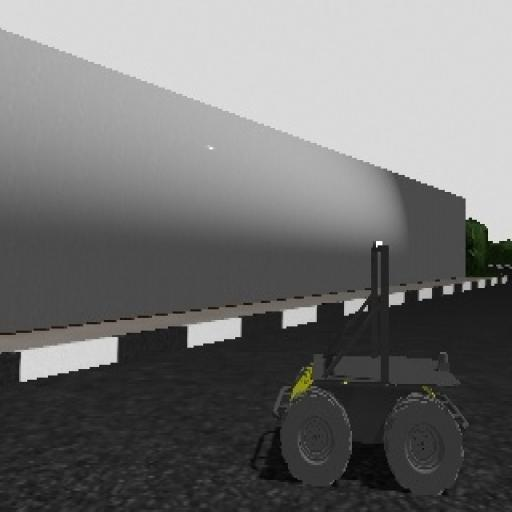huskya200: (262, 233, 488, 512)
